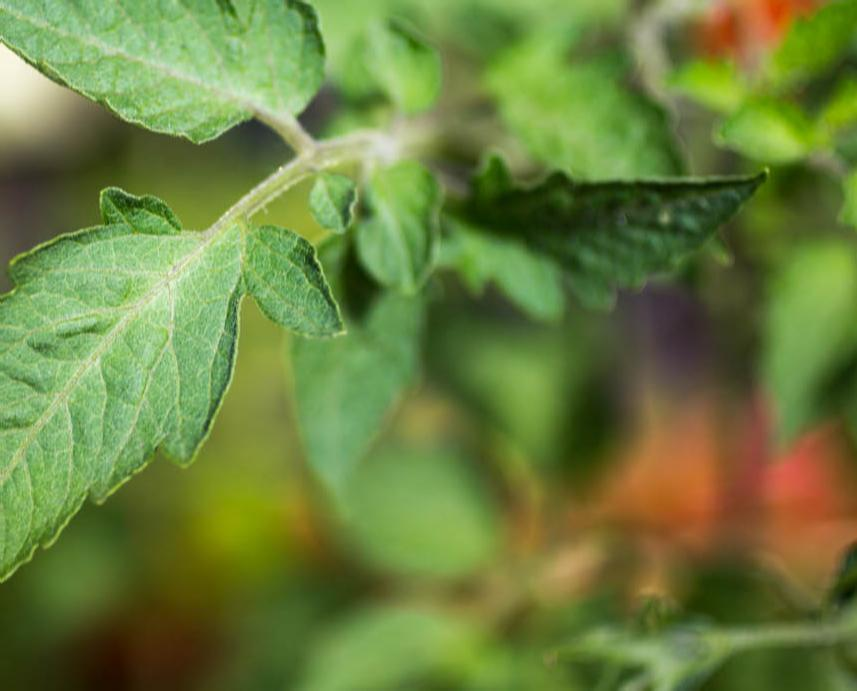Tomato leaf: (0, 192, 282, 691), (0, 0, 373, 146)
